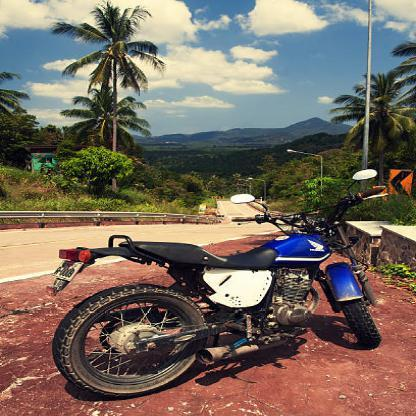Motorcycle: (40, 185, 390, 399)
